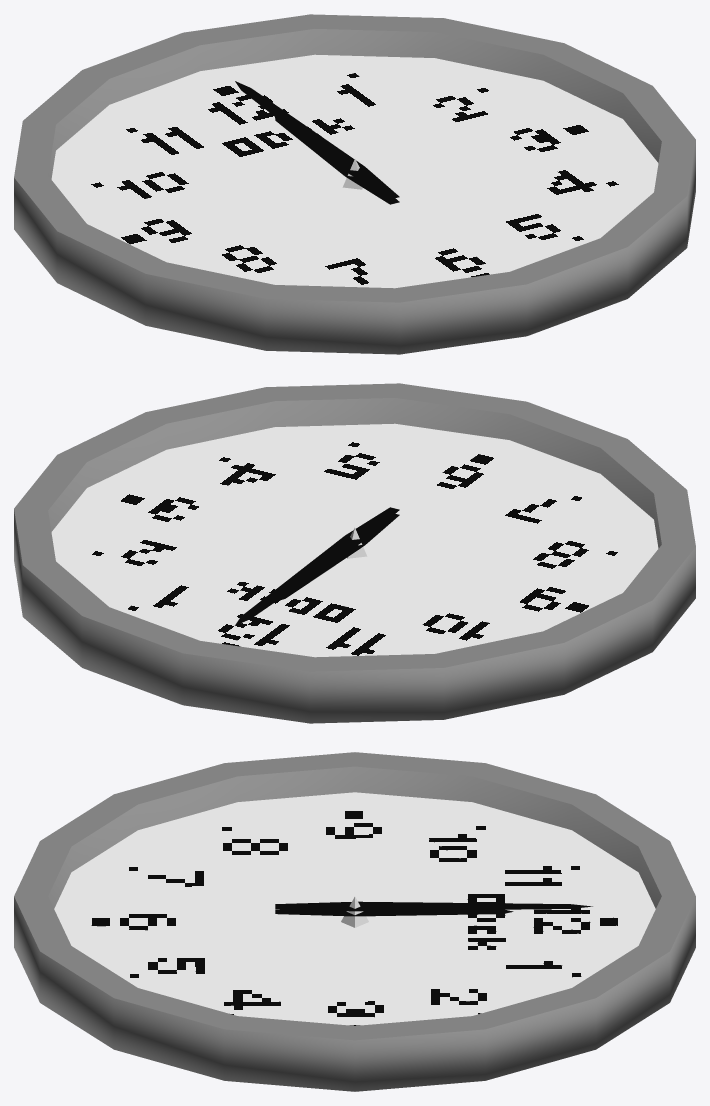
File: clock.fbx
3 views of the same model, one above another, from view 1: azimuth 30°, elevation 25°; view 2: azimuth 150°, elevation 25°; view 3: azimuth 270°, elevation 25° (orthographic).
Visible parts, largest first — view 1: Cylinder, long, short; view 2: Cylinder, long, short; view 3: Cylinder, long, short.
Boxes of the visible parts, x1,y1,x2,y2 form: Cylinder: (14,14,695,354); long: (235,81,399,199); short: (275,117,399,204); Cylinder: (14,383,695,723); long: (235,507,399,625); short: (277,514,399,600); Cylinder: (14,752,695,1091); long: (275,901,592,911); short: (275,909,513,916).
Bounding box in the file's own units: 60 × 5 × 60.
Materials: 4 (1 with a texture image).
